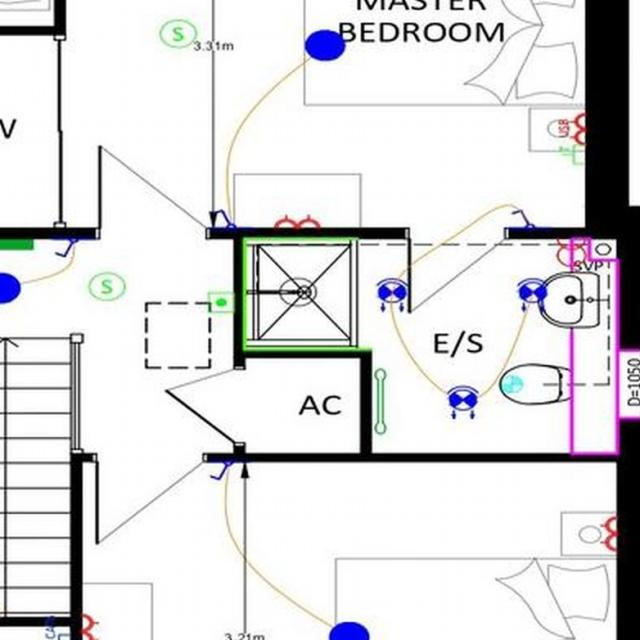Ceiling Mounted Continuous Extract FanWith Boost Mode Activated By Light Switch: (499, 374, 523, 392)
Double Socket: (274, 213, 321, 227), (599, 516, 616, 551), (80, 614, 100, 640)
Full Height Tiling: (240, 236, 360, 348)
Light Switch: (508, 206, 534, 228), (206, 460, 232, 480), (55, 238, 78, 258), (213, 209, 235, 226)
Low Energy Downlighter: (516, 276, 548, 312), (376, 276, 406, 312), (447, 385, 478, 419)
Low Energy Pendant Light: (304, 28, 344, 61), (327, 621, 371, 640), (0, 272, 20, 304)
Mains Wired Smoke Detector: (88, 272, 125, 300), (160, 18, 196, 46)
Programmable Room Thermostat: (208, 292, 232, 314)
Shaver Socket: (556, 238, 587, 273)
Telephone Socket: (559, 144, 584, 165)
USB Double Socket: (558, 112, 586, 143)
